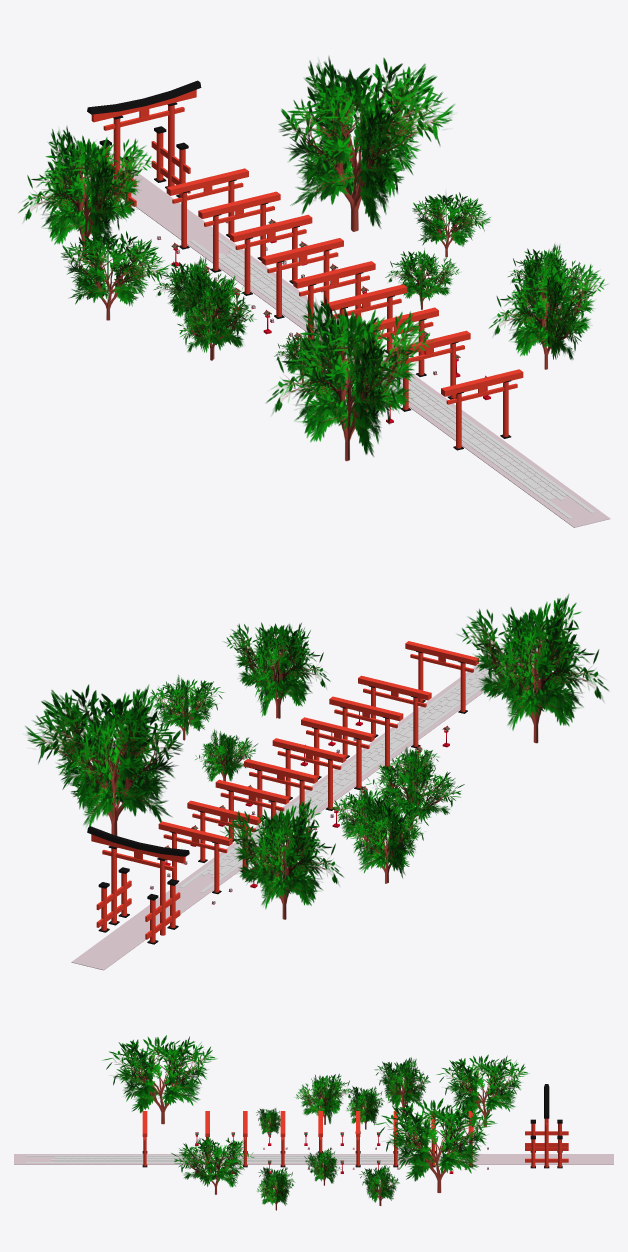
File: 神社と鳥居緑.glb
The picture shows the model from 3 angles, top to bottom: view 1: azimuth 30°, elevation 25°; view 2: azimuth 150°, elevation 25°; view 3: azimuth 270°, elevation 25°; orthographic projection. The views are drawn at different scales.
Parts seen in each view (by area): view 1: 平面.005; view 2: 平面.005; view 3: 平面.005.
Part boxes in pixels (bbox=[...]): 平面.005: bbox=[18, 56, 610, 527]; 平面.005: bbox=[25, 594, 608, 970]; 平面.005: bbox=[14, 1035, 613, 1210].
Bounding box in the file's own units: 45.06 × 20.52 × 90.23.
11 materials, 1 textured.
